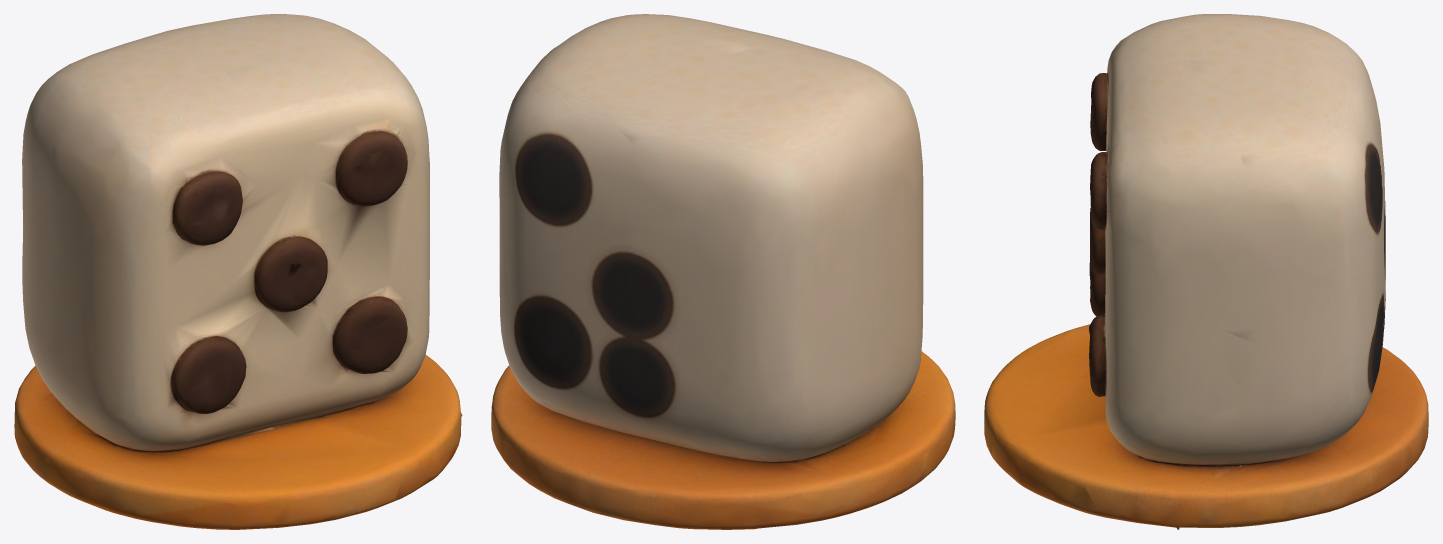
File: item-dice-plus1.glb
3 views of the same model, side by side, from view 1: azimuth 30°, elevation 25°; view 2: azimuth 150°, elevation 25°; view 3: azimuth 270°, elevation 25° (orthographic). The views are drawn at different scales.
Visible parts, largest first — view 1: Mesh_0; view 2: Mesh_0; view 3: Mesh_0.
Boxes of the visible parts, <box> form: Mesh_0: <box>14,14,462,529</box>; Mesh_0: <box>491,14,955,529</box>; Mesh_0: <box>984,14,1428,529</box>.
Bounding box in the file's own units: 2 × 1.85 × 2.
Materials: 1 (1 with a texture image).
